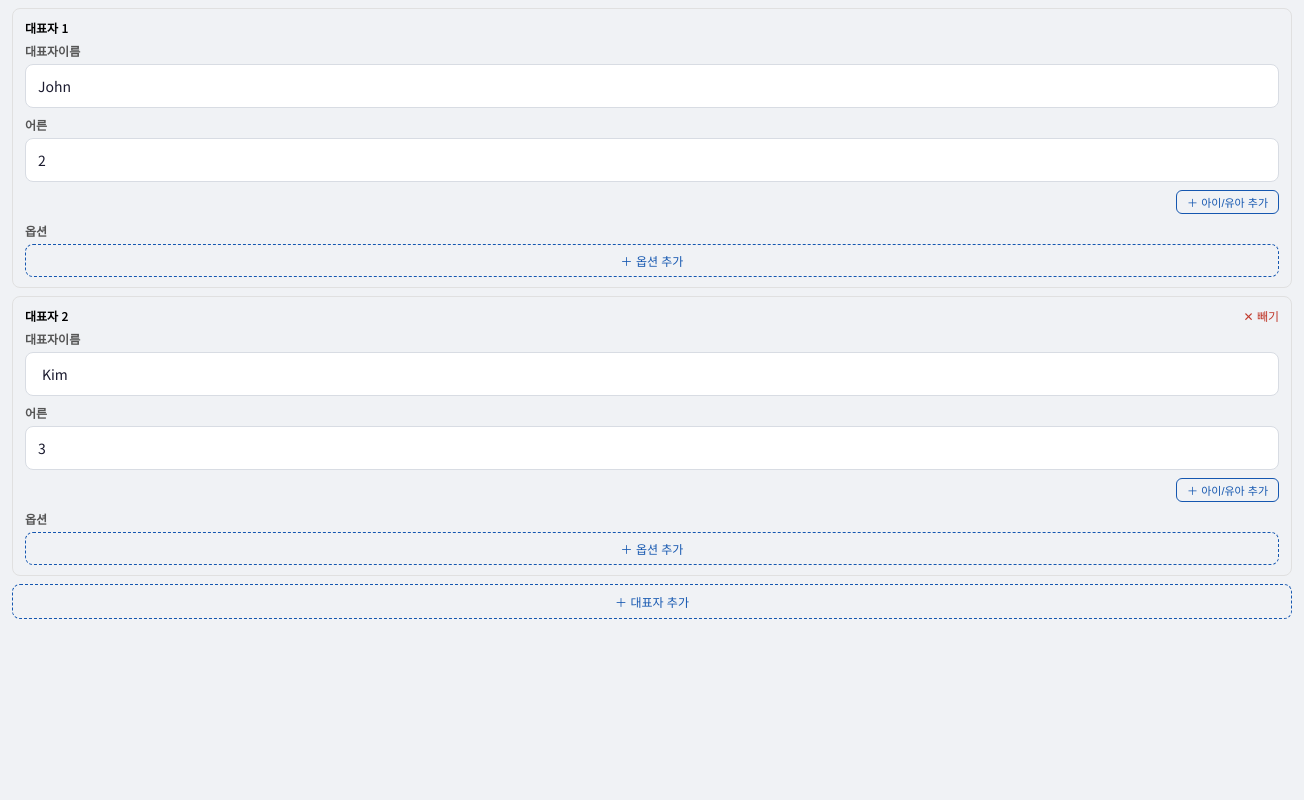
아이/유아는 박스마다 따로 켜지고, 숨기면 값이 비워짐
expect the text "아이 인원" is not shown: met
Click the button with aria-label "대표자 2 아이/유아" at (1228, 490), box x1=1176 y1=478 x2=1279 y2=502
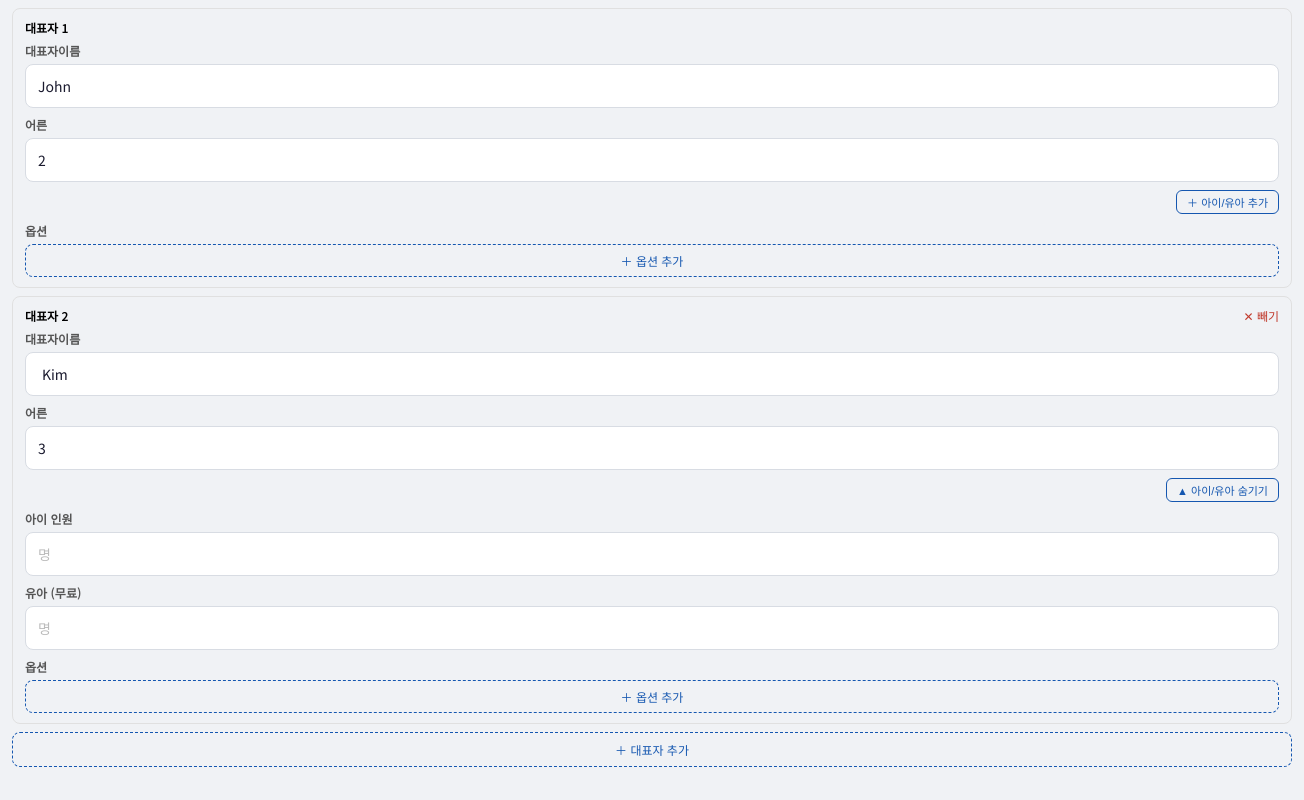
expect the text "아이 인원" is shown once: met, box x1=25 y1=510 x2=72 y2=527
Type "2" into the number field with placeholder "명" below "아이 인원" at (652, 554), box x1=25 y1=532 x2=1279 y2=576
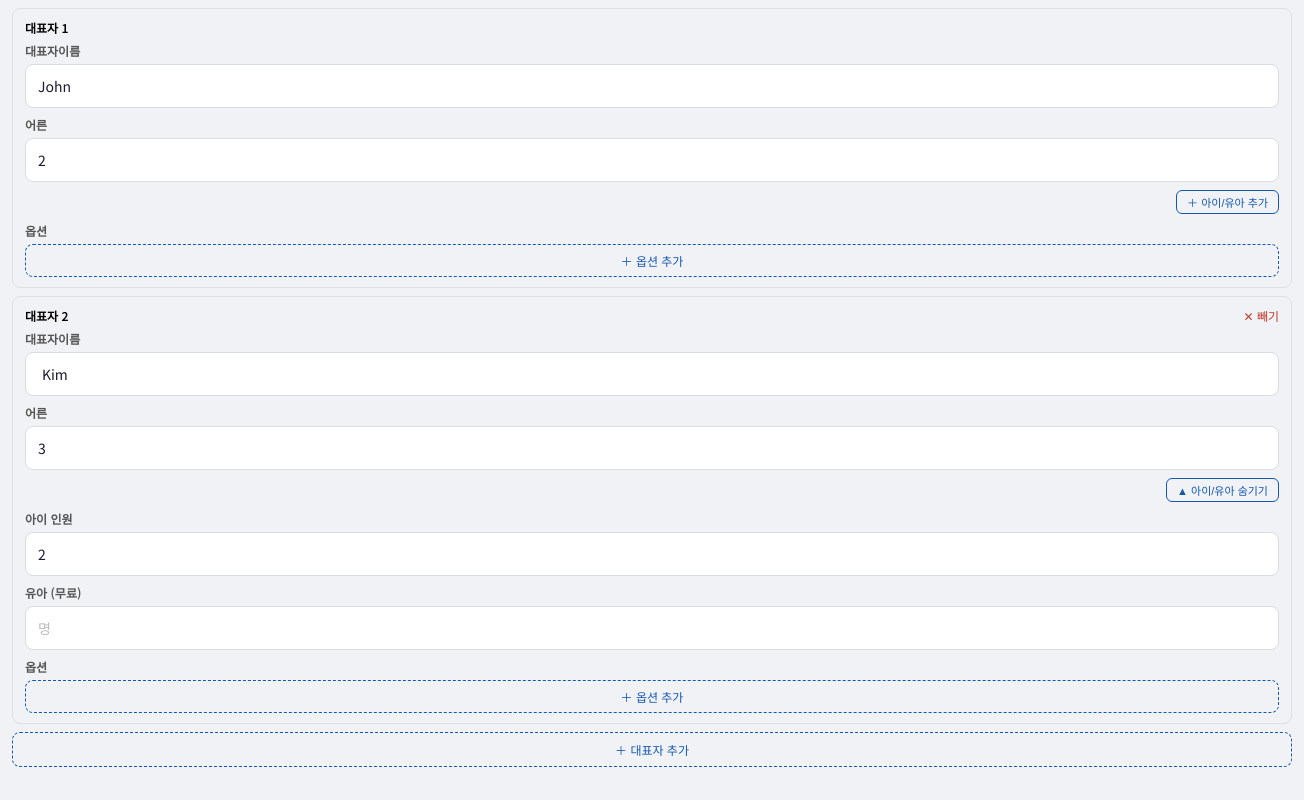
Click the button with aria-label "대표자 2 아이/유아" at (1223, 490), box x1=1166 y1=478 x2=1279 y2=502
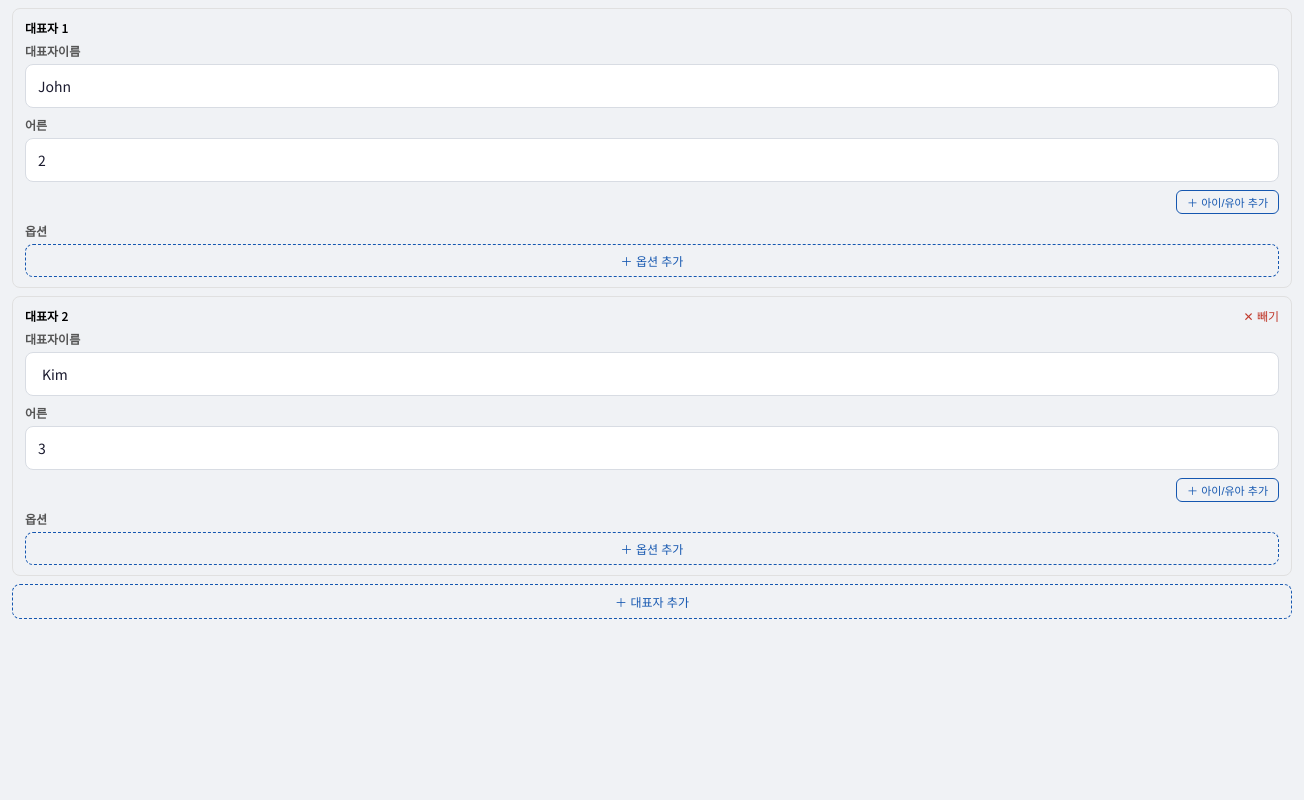
expect the text "아이 인원" is gone: met
Click the button with aria-label "대표자 1 아이/유아" at (1228, 202), box x1=1176 y1=190 x2=1279 y2=214
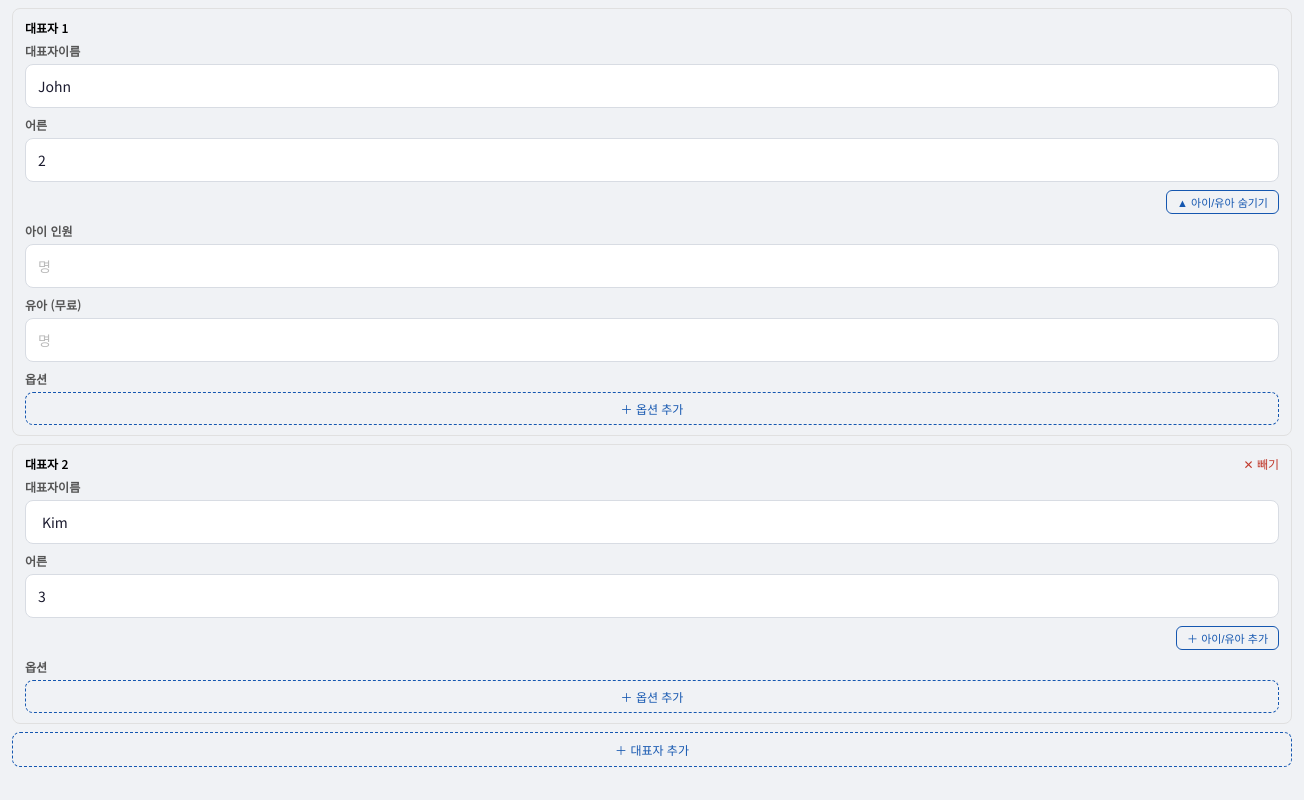
expect the text "아이 인원" is shown once: met, box x1=25 y1=222 x2=72 y2=239
